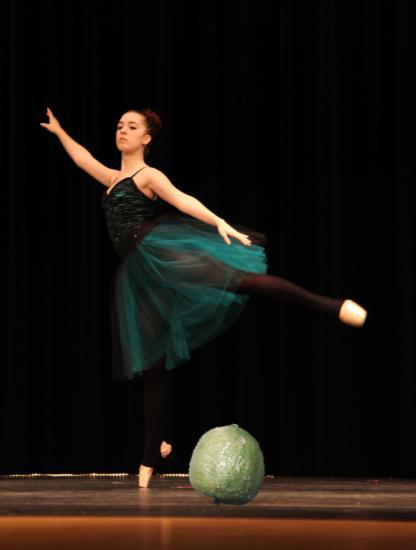Limes: (187, 424, 270, 507)
